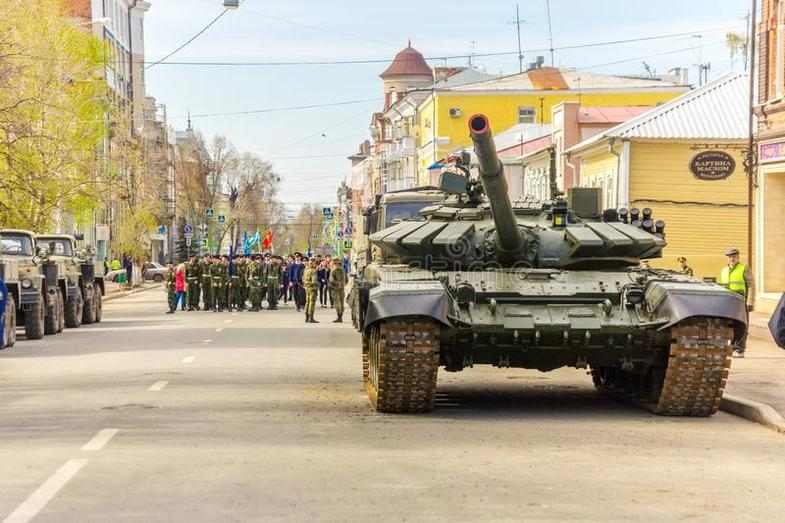t72: (380, 114, 746, 413)
